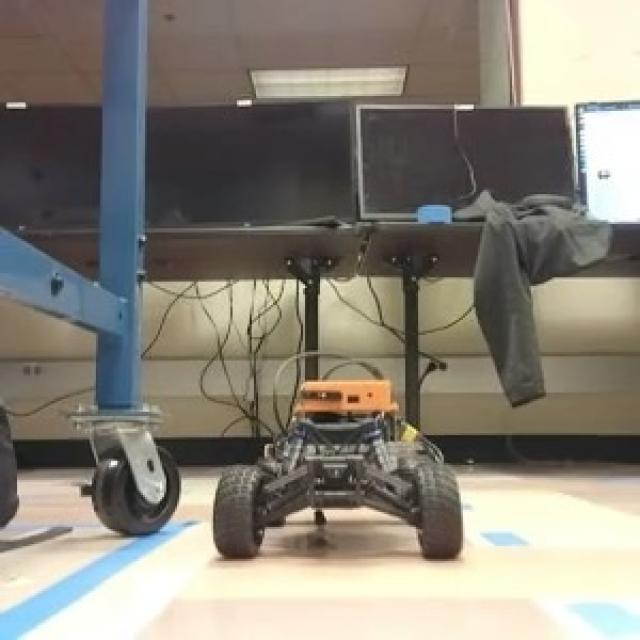obstacle: (210, 373, 464, 565)
